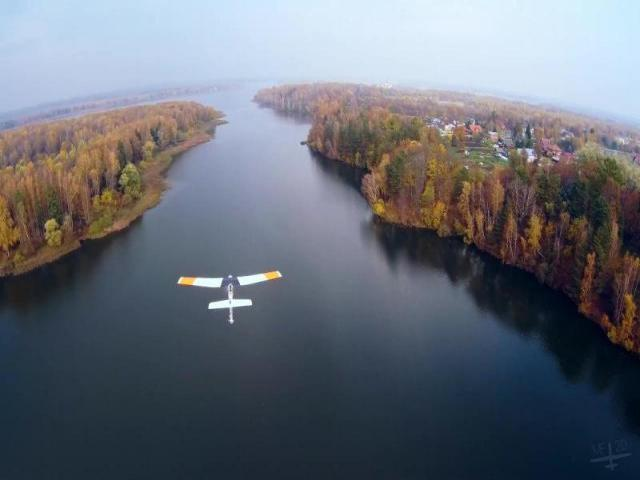hedef: (174, 263, 286, 329)
